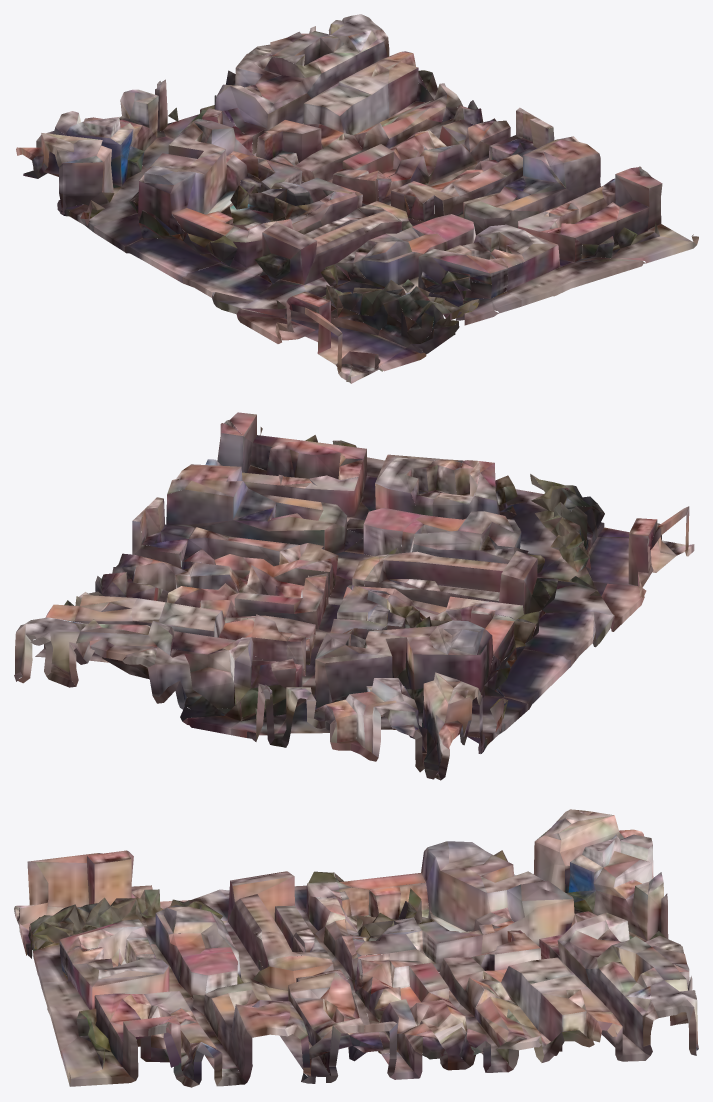
3 views of the same model, one above another, from view 1: azimuth 30°, elevation 25°; view 2: azimuth 150°, elevation 25°; view 3: azimuth 270°, elevation 25° (orthographic). The views are drawn at different scales.
Parts seen in each view (by area): view 1: Mesh_0; view 2: Mesh_0; view 3: Mesh_0.
Boxes of the visible parts, bbox=[...] form: Mesh_0: bbox=[16, 14, 698, 383]; Mesh_0: bbox=[14, 412, 694, 780]; Mesh_0: bbox=[14, 809, 698, 1087].
Bounding box in the file's own units: 271 × 48.55 × 330.
Materials: 2 (2 with a texture image).
